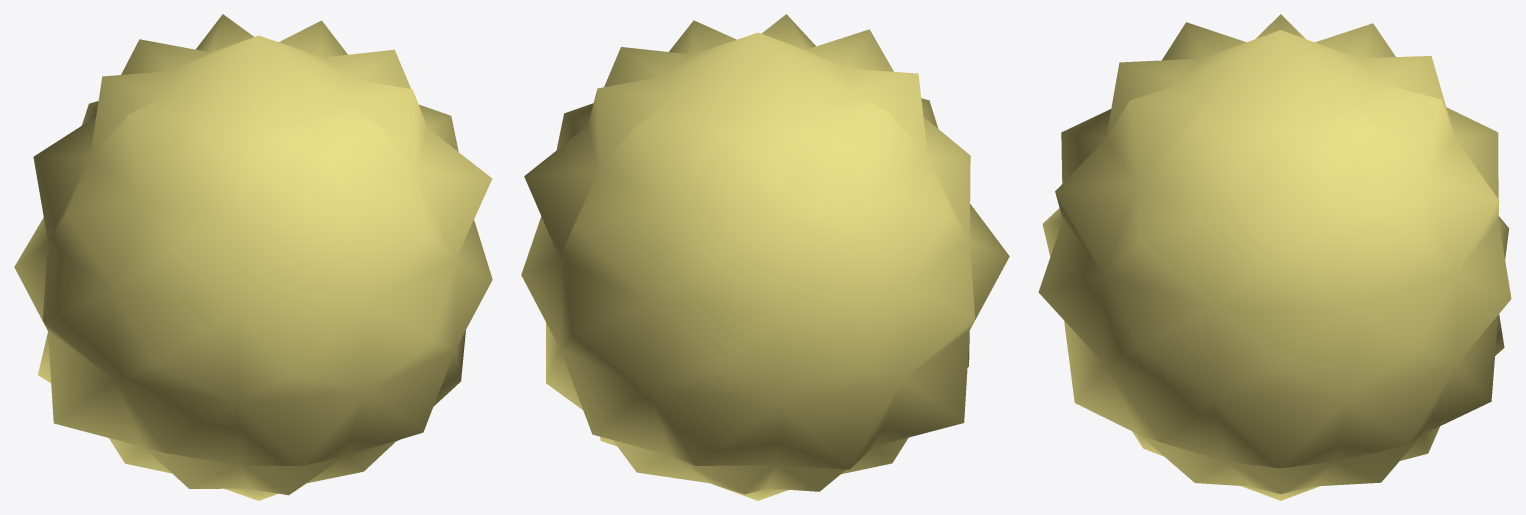
Rendered from Pollen.fbx.
3 renders of one model, left to right at view 1: azimuth 30°, elevation 25°; view 2: azimuth 150°, elevation 25°; view 3: azimuth 270°, elevation 25°, orthographic.
Parts seen in each view (by area): view 1: Pollen; view 2: Pollen; view 3: Pollen.
Boxes of the visible parts, x1,y1,x2,y2 form: Pollen: (14,14,492,500); Pollen: (521,14,1009,500); Pollen: (1038,14,1511,500).
Size of the model in its own units: 219 by 233 by 212.
